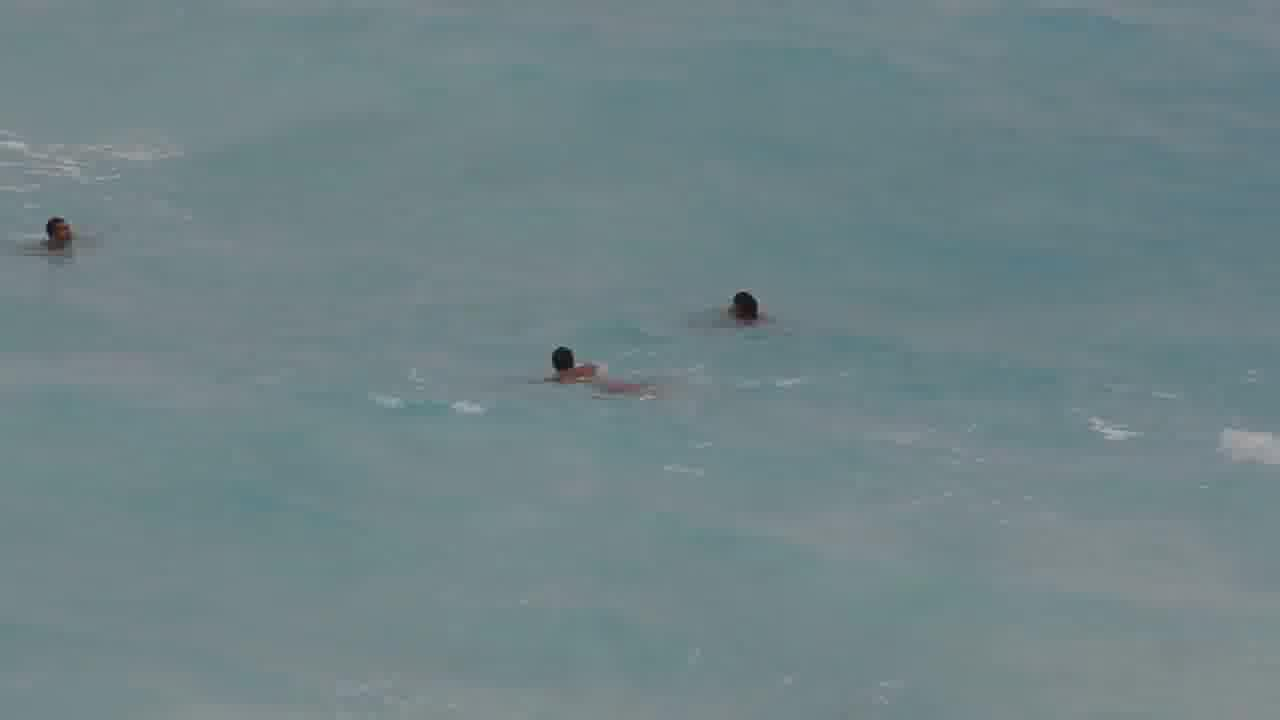human: (536, 337, 644, 400), (714, 281, 777, 331), (28, 206, 89, 254)
